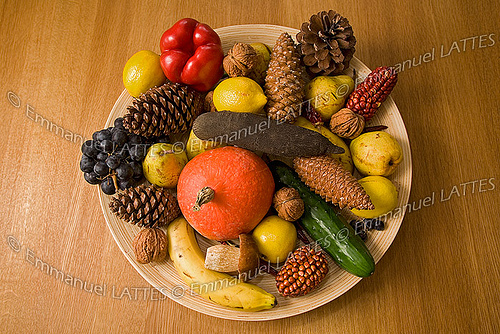cucumber: (260, 153, 377, 281)
